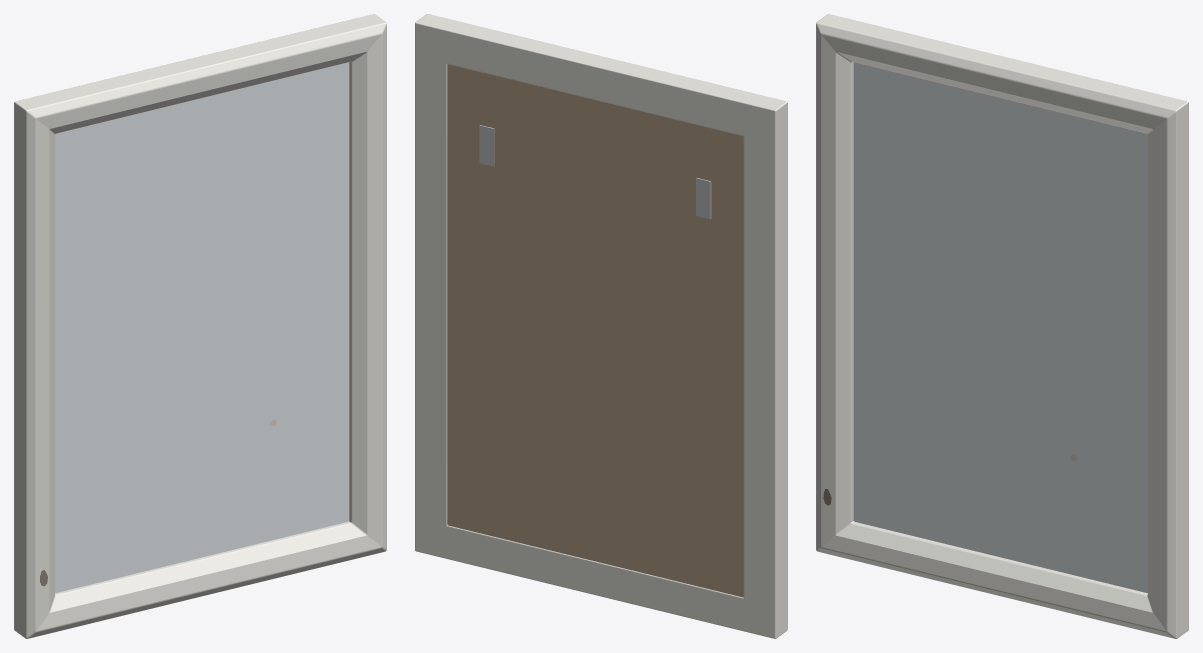
The model's file is furniture_mirror_wall.fbx.
The picture shows the model from 3 angles, left to right: view 1: azimuth 30°, elevation 25°; view 2: azimuth 150°, elevation 25°; view 3: azimuth 330°, elevation 25°; orthographic projection.
Visible parts, largest first — view 1: furniture_mirror_wall; view 2: furniture_mirror_wall; view 3: furniture_mirror_wall.
Part boxes in pixels (x1,y1,x2,y2): furniture_mirror_wall: (14, 14, 386, 638); furniture_mirror_wall: (415, 14, 787, 638); furniture_mirror_wall: (816, 14, 1188, 638).
Bounding box in the file's own units: 0.5 × 0.7 × 0.0378.
